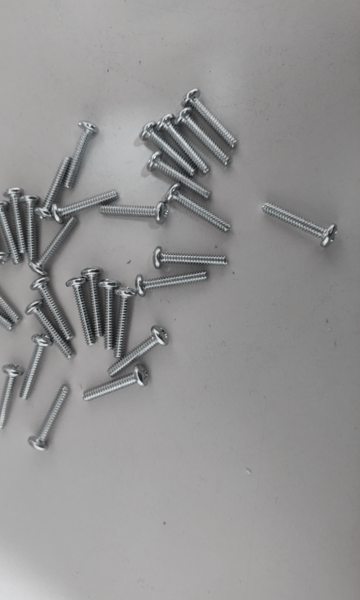longscrew: (258, 197, 338, 245), (163, 186, 235, 234), (105, 324, 171, 376), (146, 148, 208, 201), (139, 124, 201, 177), (154, 117, 212, 173), (174, 110, 232, 166), (181, 90, 239, 146), (25, 296, 77, 358), (60, 117, 100, 192), (29, 384, 70, 457), (33, 211, 79, 276), (31, 273, 75, 340), (84, 366, 152, 406), (14, 332, 52, 399), (134, 273, 216, 301), (150, 244, 233, 271), (34, 156, 69, 217), (66, 275, 95, 347), (55, 190, 118, 223), (111, 282, 137, 360), (101, 275, 127, 353), (82, 263, 108, 340), (0, 363, 25, 431), (0, 187, 27, 249), (98, 198, 172, 220), (0, 200, 21, 263), (24, 187, 39, 265), (0, 269, 18, 319), (0, 281, 9, 331), (0, 200, 7, 263)
